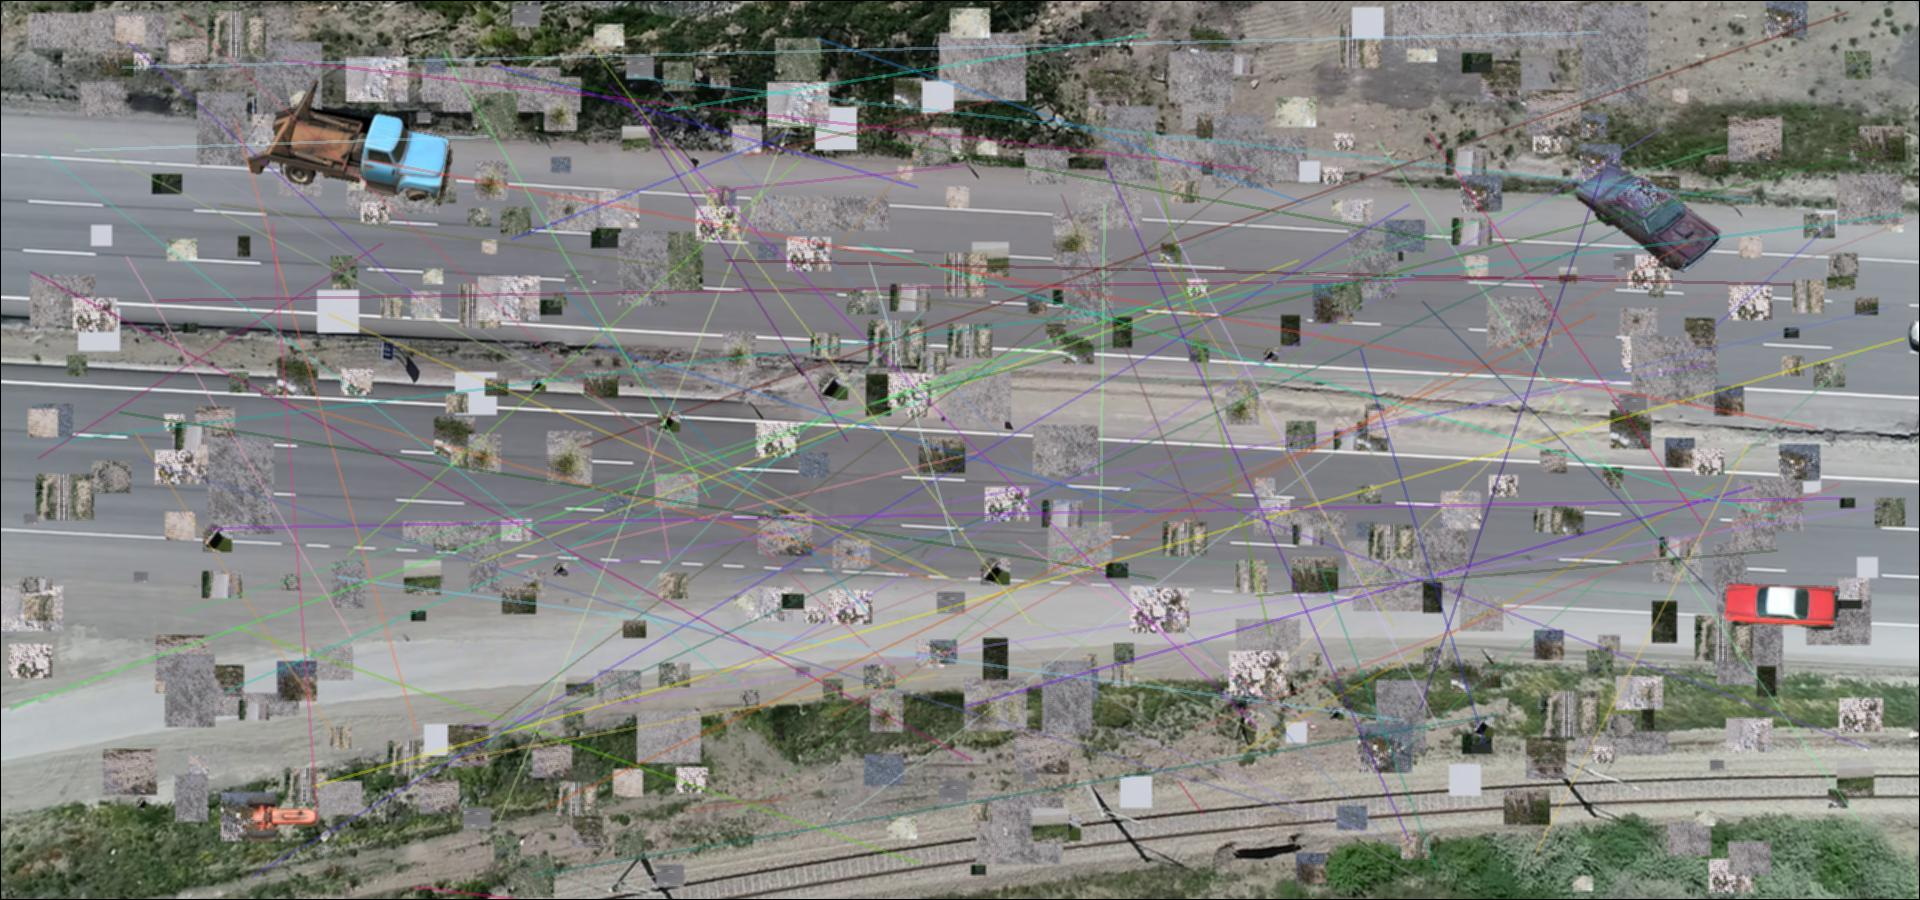arac: (239, 73, 453, 209), (1569, 158, 1724, 272), (1723, 582, 1843, 632), (245, 795, 320, 842)
